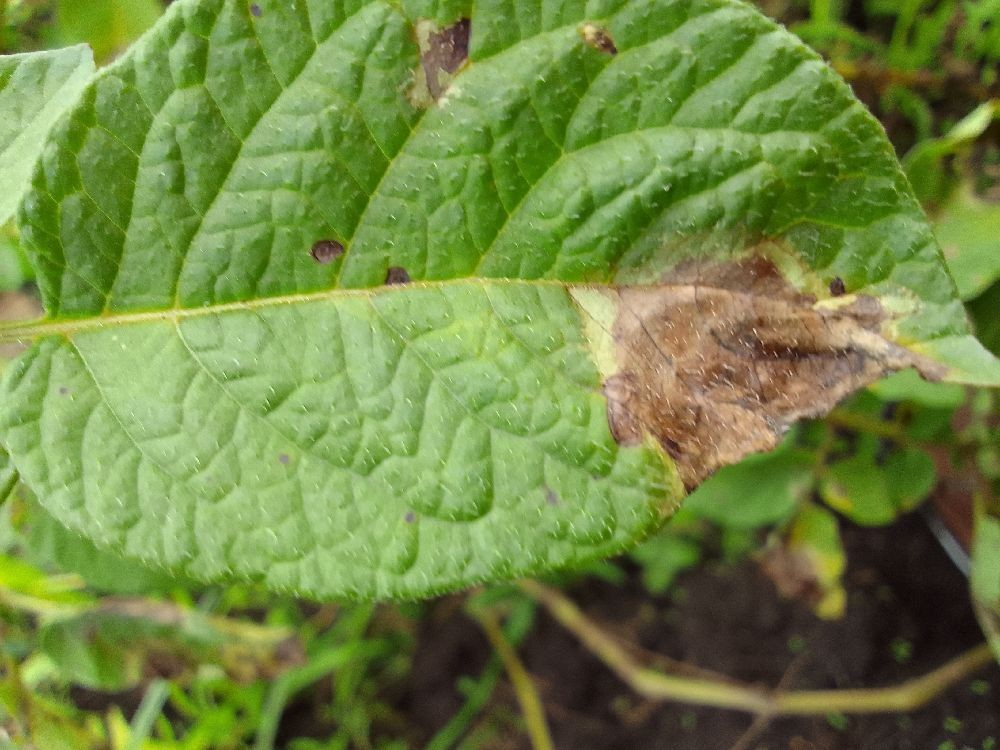late_blight: (284, 386, 999, 749), (787, 0, 1000, 246), (22, 572, 223, 747), (393, 0, 483, 114)
